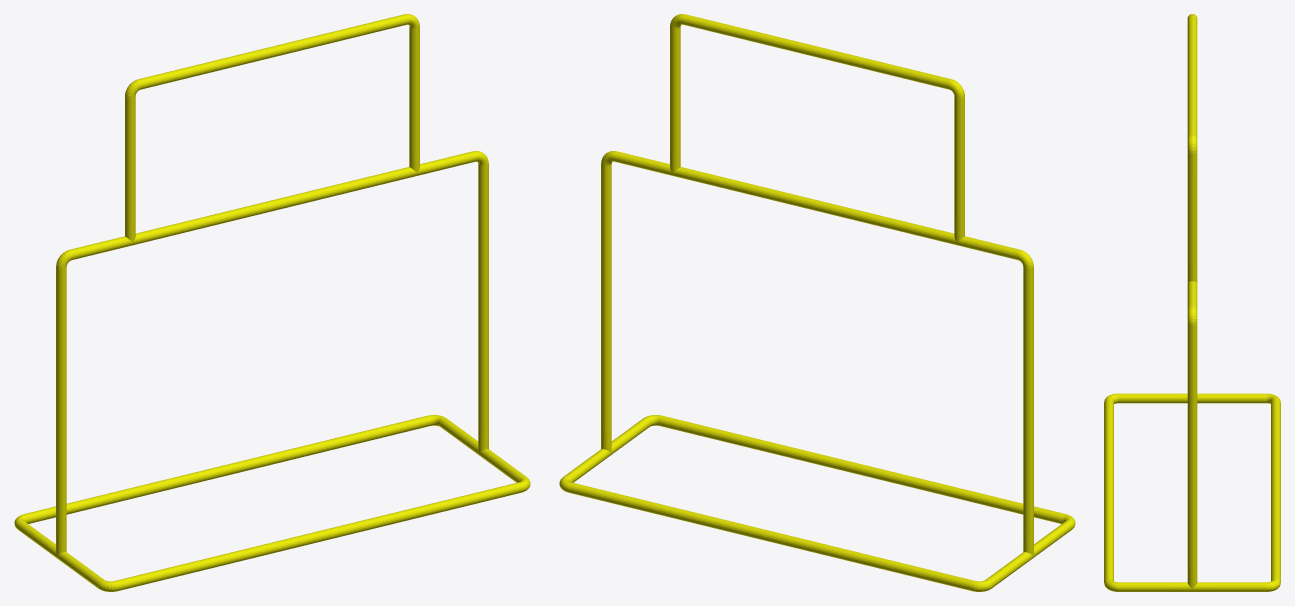
File: a_mission.dae
3 renders of one model, left to right at view 1: azimuth 30°, elevation 25°; view 2: azimuth 150°, elevation 25°; view 3: azimuth 270°, elevation 25°, orthographic. The views are drawn at different scales.
Parts seen in each view (by area): view 1: Gate_1_; view 2: Gate_1_; view 3: Gate_1_.
Part boxes in pixels (x1,y1,x2,y2): Gate_1_: (14, 14, 530, 591); Gate_1_: (559, 14, 1075, 591); Gate_1_: (1104, 14, 1280, 591).
Bounding box in the file's own units: 1.57 × 0.607 × 1.6.
